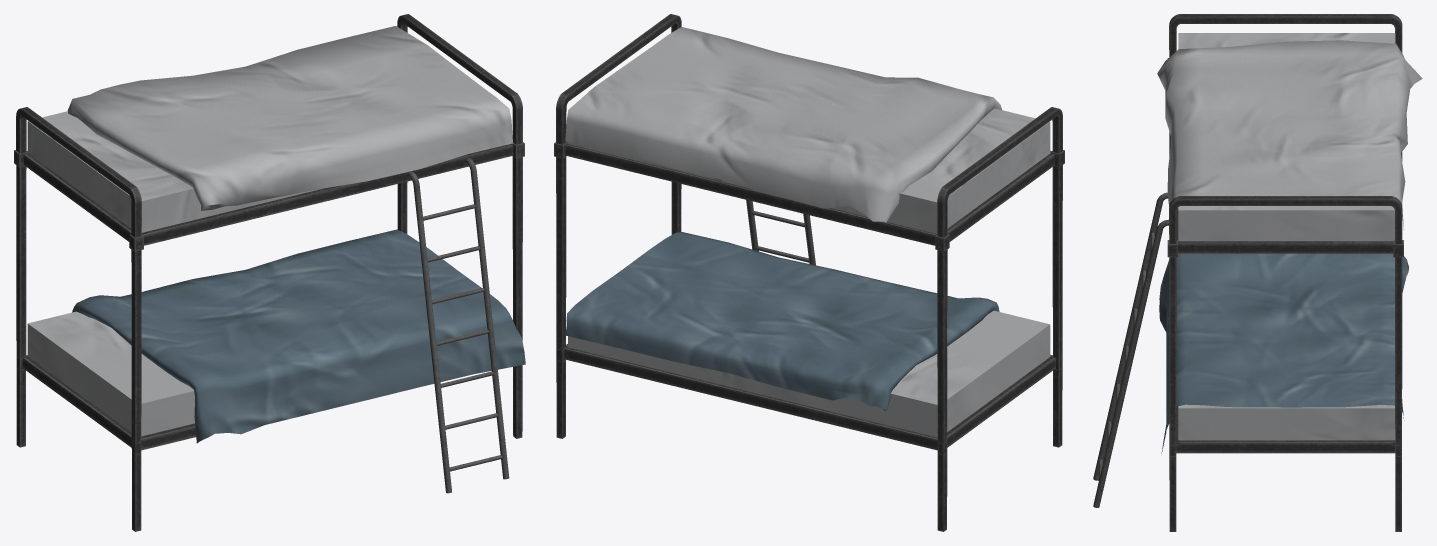
The model's file is bunk_bed.glb.
3 renders of one model, left to right at view 1: azimuth 30°, elevation 25°; view 2: azimuth 150°, elevation 25°; view 3: azimuth 270°, elevation 25°, orthographic. The views are drawn at different scales.
Parts seen in each view (by area): view 1: defaultMaterial; view 2: defaultMaterial; view 3: defaultMaterial.
Boxes of the visible parts, box(x1,y1,x2,y2) form: defaultMaterial: box(14, 14, 525, 531); defaultMaterial: box(554, 14, 1064, 531); defaultMaterial: box(1093, 14, 1422, 531).
Bounding box in the file's own units: 2 × 1.67 × 1.49.
1 material, 1 textured.
